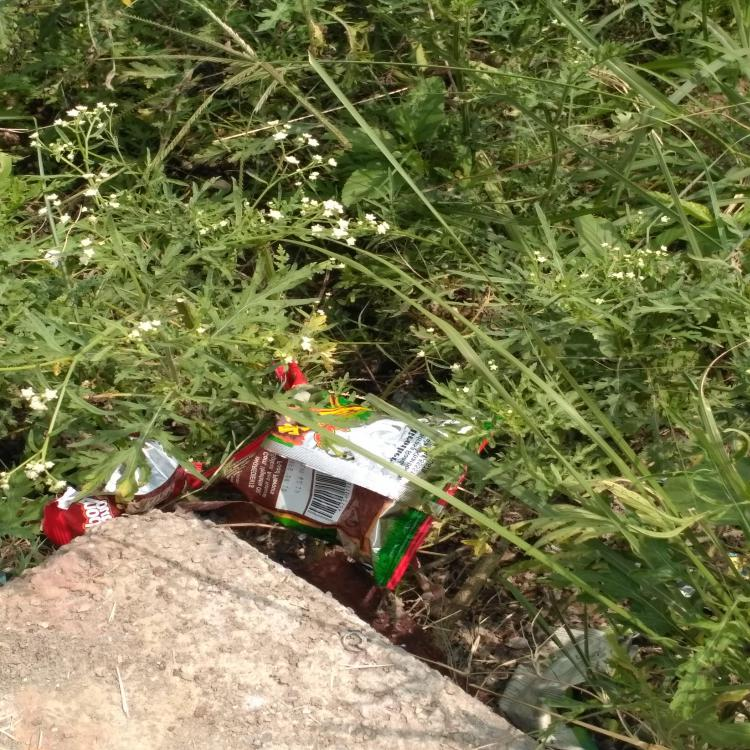Other plastic: (42, 441, 202, 548), (498, 626, 636, 749)
